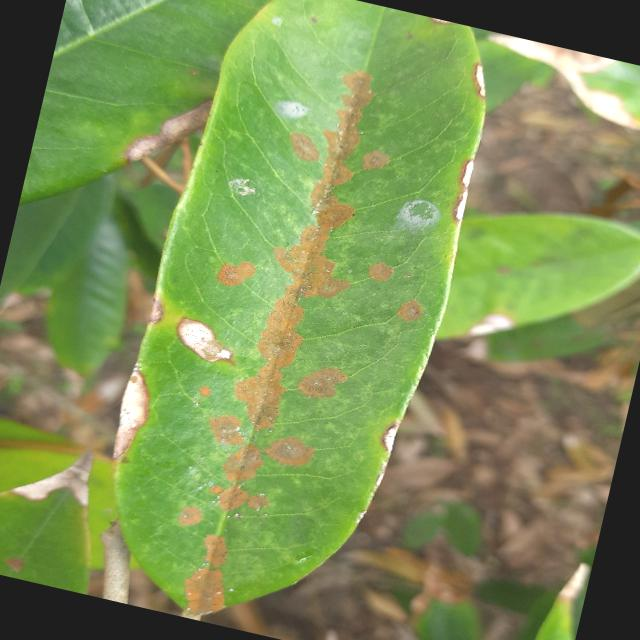Algal Leaf Spot: (70, 0, 515, 639)
